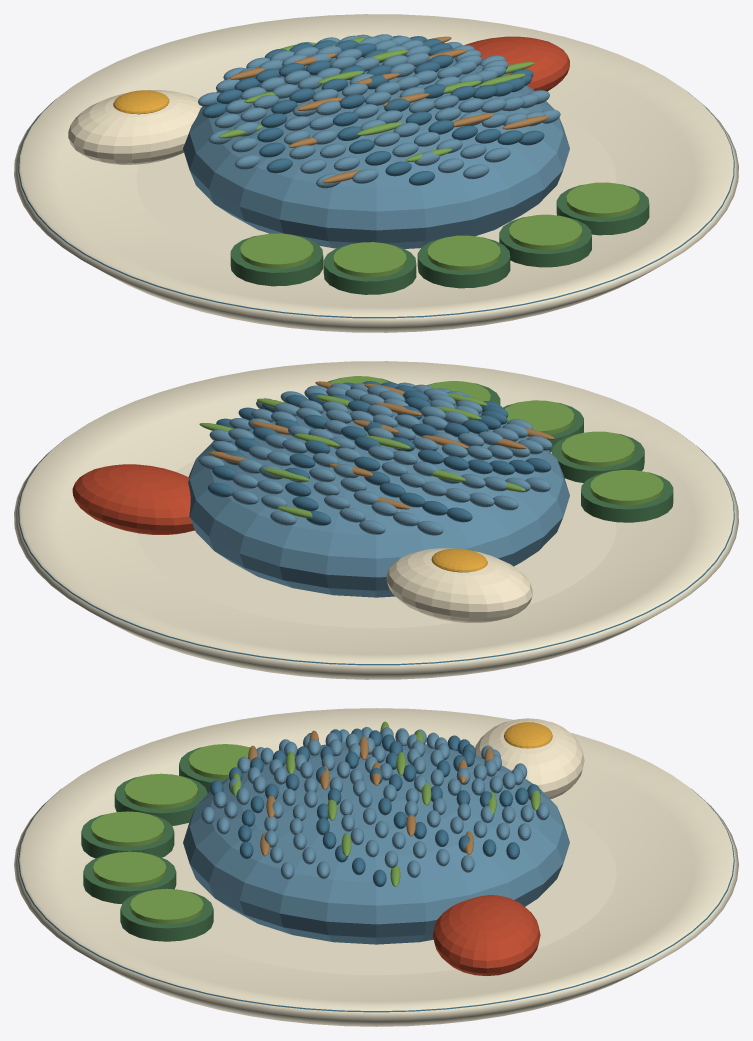
The picture shows the model from 3 angles, top to bottom: view 1: azimuth 30°, elevation 25°; view 2: azimuth 150°, elevation 25°; view 3: azimuth 270°, elevation 25°; orthographic projection.
Parts seen in each view (by area): view 1: Plate, Rice, Garnish; view 2: Plate, Rice, Garnish; view 3: Plate, Rice, Garnish.
Boxes of the visible parts, box(x1,y1,x2,y2) form: Plate: box(14, 14, 738, 332); Rice: box(183, 34, 569, 248); Garnish: box(68, 36, 649, 294); Plate: box(14, 361, 738, 679); Rice: box(188, 381, 569, 597); Garnish: box(72, 376, 673, 622); Plate: box(14, 708, 738, 1026); Rice: box(183, 727, 569, 944); Garnish: box(81, 718, 584, 975).
Bounding box in the file's own units: 0.296 × 0.0608 × 0.296.
